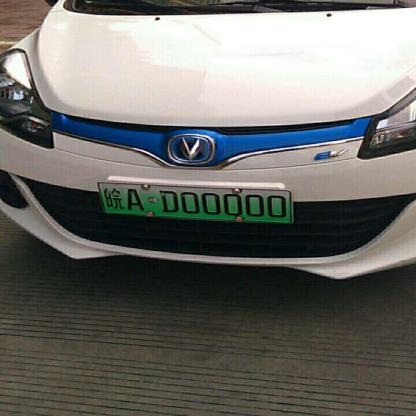lp: (97, 182, 292, 223)
